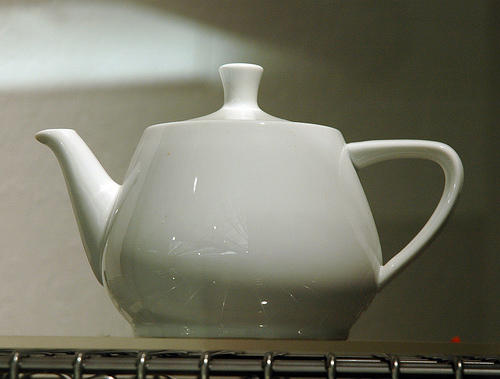teapot: (17, 35, 491, 355)
